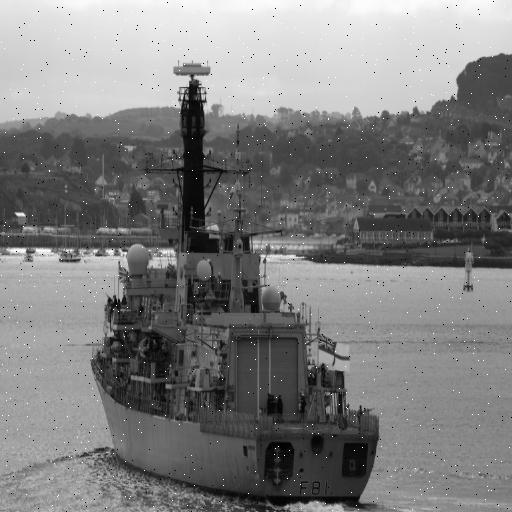Fragata: (84, 35, 384, 507)
